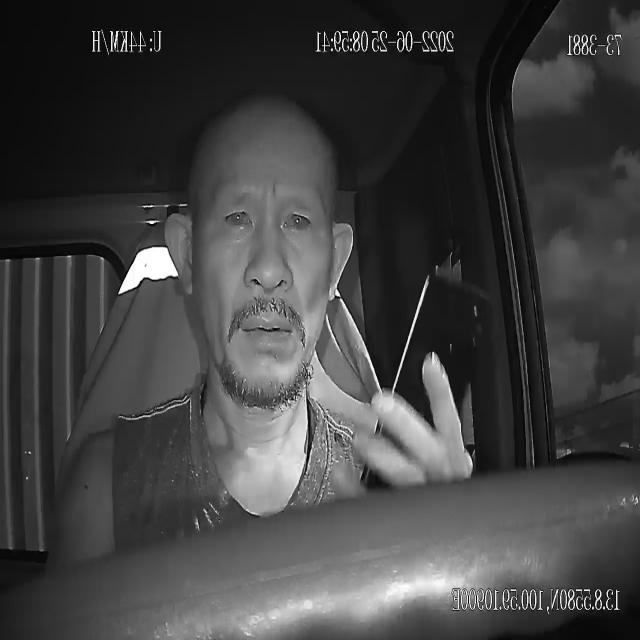phone: (359, 272, 494, 490)
